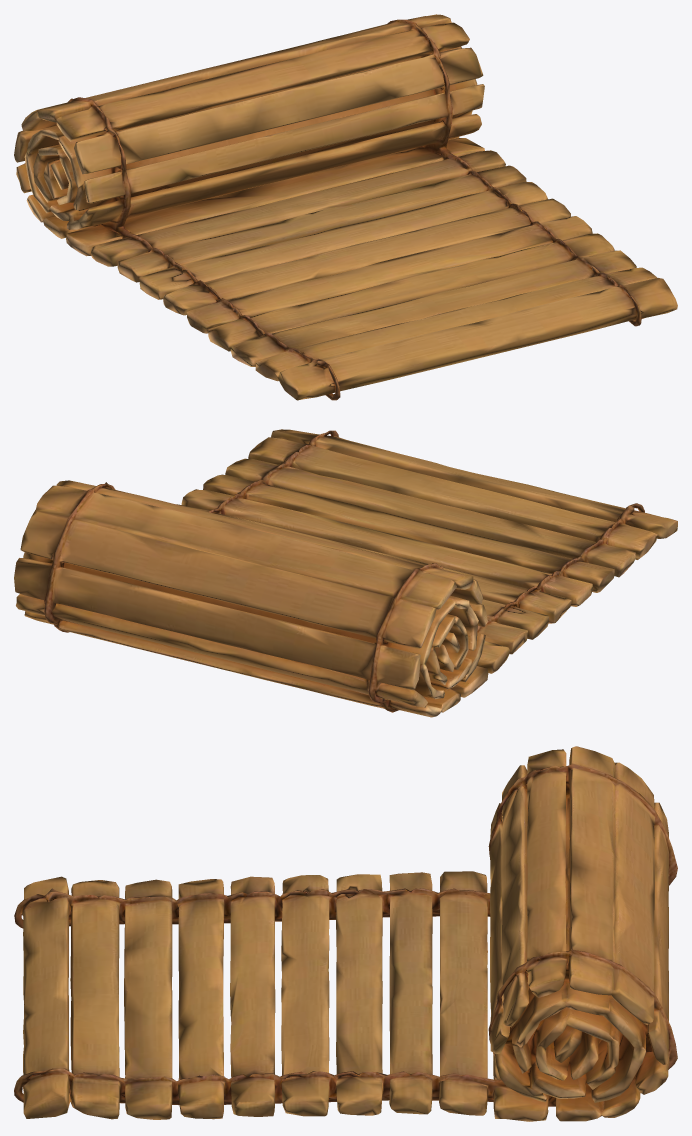
The model's file is prop_slips.glb.
3 renders of one model, top to bottom at view 1: azimuth 30°, elevation 25°; view 2: azimuth 150°, elevation 25°; view 3: azimuth 270°, elevation 25°, orthographic. The views are drawn at different scales.
Parts seen in each view (by area): view 1: Mesh; view 2: Mesh; view 3: Mesh.
Part boxes in pixels (left/top/right/bottom): Mesh: left=14, top=14, right=677, bottom=400; Mesh: left=14, top=429, right=677, bottom=717; Mesh: left=14, top=746, right=677, bottom=1121.
Size of the model in its own units: 0.8294 by 0.2656 by 1.
1 material, 1 textured.
